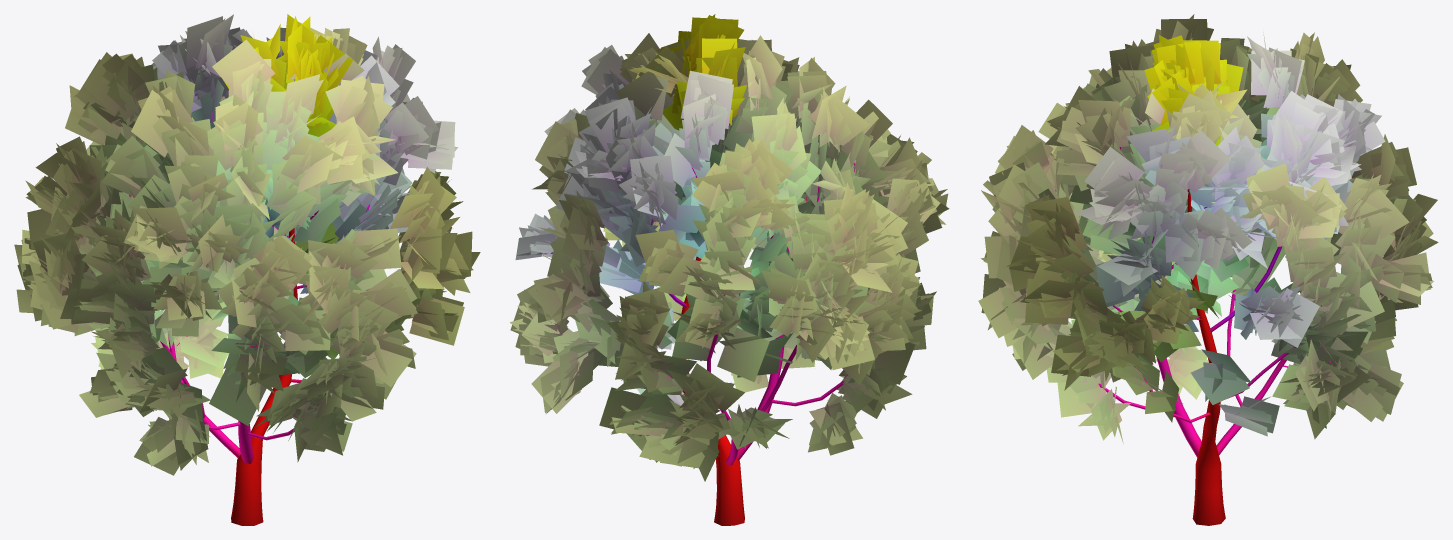
File: elm_b.glb
The picture shows the model from 3 angles, left to right: view 1: azimuth 30°, elevation 25°; view 2: azimuth 150°, elevation 25°; view 3: azimuth 270°, elevation 25°; orthographic projection. The views are drawn at different scales.
Parts seen in each view (by area): view 1: elm_b; view 2: elm_b; view 3: elm_b.
Boxes of the visible parts, left/top/right/bottom form: elm_b: left=14, top=14, right=480, bottom=525; elm_b: left=510, top=14, right=949, bottom=525; elm_b: left=978, top=14, right=1438, bottom=525.
Size of the model in its own units: 9.52 by 11.7 by 9.74.
